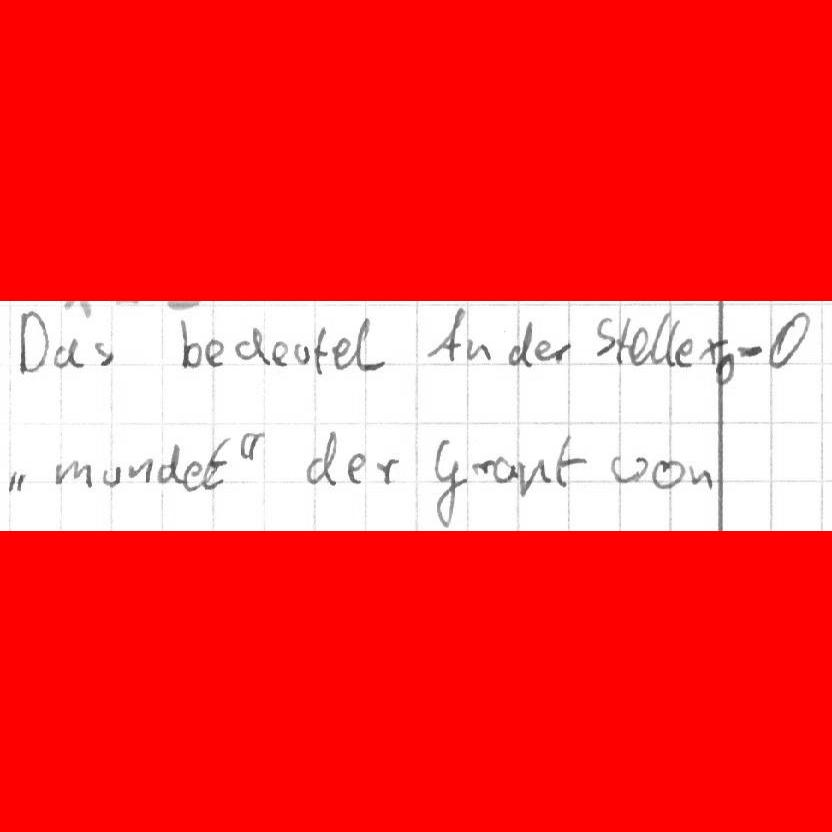Char: (426, 430, 468, 528), (767, 302, 812, 372), (16, 307, 53, 376), (422, 304, 464, 364), (301, 426, 338, 488), (354, 315, 387, 374), (553, 431, 587, 488), (202, 434, 231, 493), (176, 315, 205, 371), (235, 323, 271, 366), (516, 456, 551, 497), (609, 451, 649, 486), (50, 456, 92, 489), (507, 315, 533, 368), (309, 319, 331, 379), (53, 333, 85, 374), (648, 309, 669, 369), (650, 455, 685, 491), (155, 440, 182, 485), (373, 450, 403, 488), (594, 311, 616, 362), (235, 427, 267, 461), (459, 333, 494, 362), (627, 322, 648, 370), (330, 329, 353, 372), (343, 450, 369, 487), (179, 457, 204, 495), (125, 455, 155, 483), (90, 337, 116, 369), (687, 461, 715, 490), (615, 314, 630, 368), (699, 335, 726, 365), (203, 336, 227, 369), (492, 454, 519, 483), (666, 317, 681, 369), (712, 351, 737, 381), (468, 454, 498, 477), (674, 336, 693, 369), (550, 338, 573, 365), (270, 337, 290, 368), (100, 460, 122, 487), (7, 466, 28, 494), (735, 340, 760, 361), (293, 339, 311, 368), (537, 336, 553, 363)
